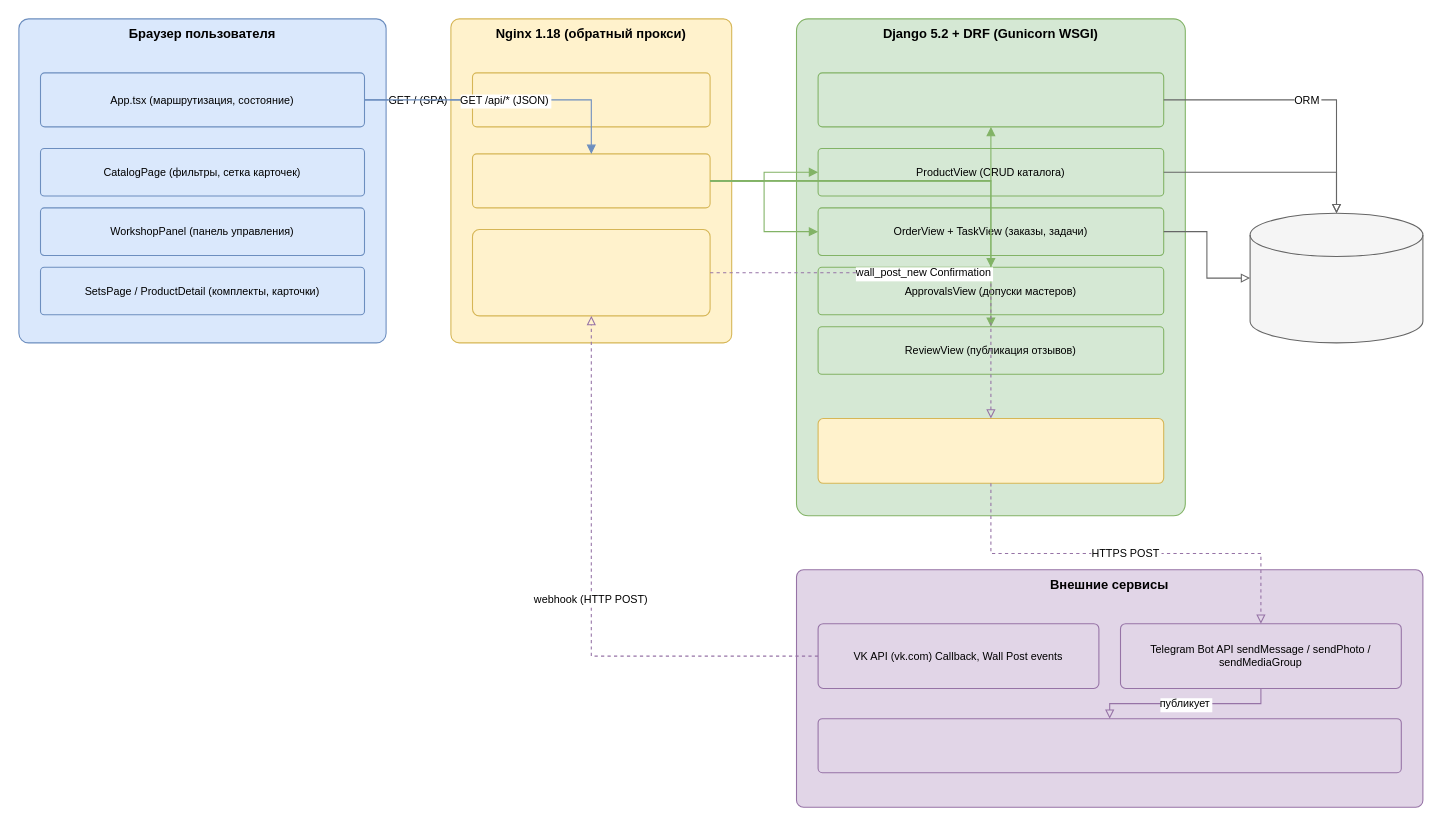
Image size: 1442x826. Some labels were removed from this diagram. The centre of each missing label's shape, as x and y in pixels:
/api/* → Gunicorn (UNIX socket): the point at 590,180
/api/integrations/vk/callback/ → VKCallbackView: the point at 590,272
/static/* → dist/ (SPA, CSS, JS): the point at 590,99
BootstrapView (товары, отзывы, ссылки): the point at 990,99
SQLite db.sqlite3: the point at 1336,277
Telegram-канал @BandKalrad (публикация новостей клуба): the point at 1109,745
TelegramService / VKService (интеграция с внешними сервисами): the point at 990,450
